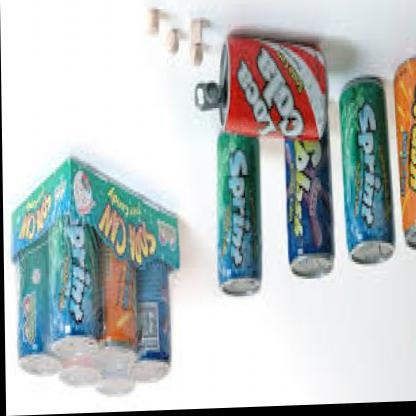trash: (13, 159, 178, 393), (340, 77, 393, 263), (218, 132, 260, 294), (394, 58, 415, 248)
